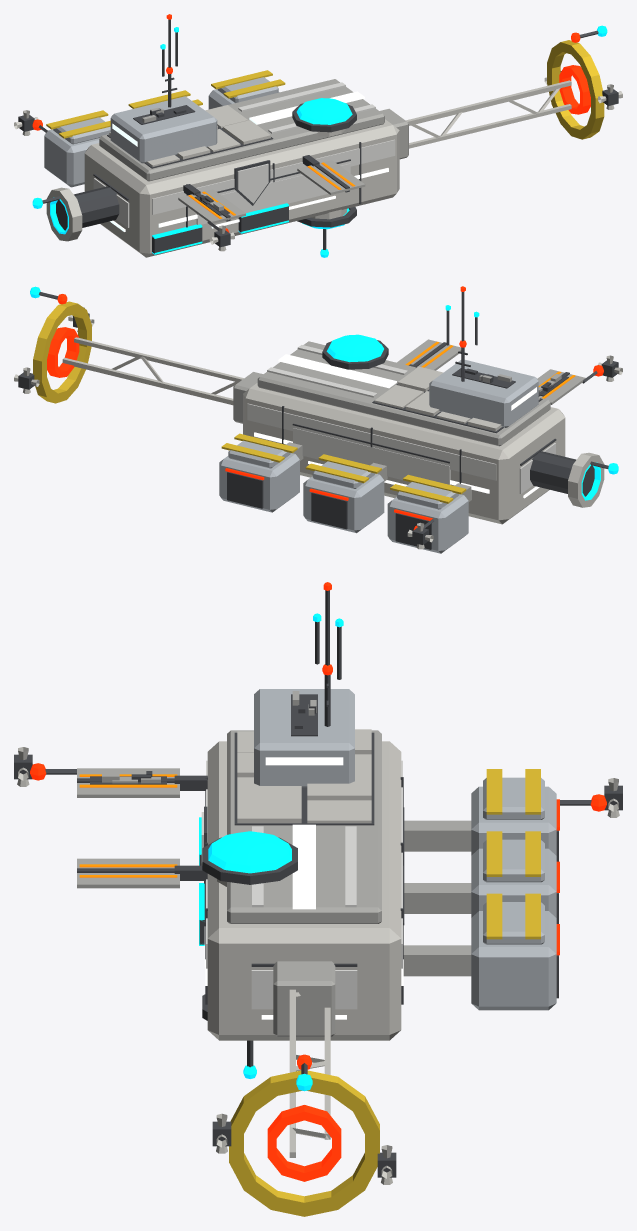
The model's file is weapons_works.glb.
The picture shows the model from 3 angles, top to bottom: view 1: azimuth 30°, elevation 25°; view 2: azimuth 150°, elevation 25°; view 3: azimuth 270°, elevation 25°; orthographic projection. The views are drawn at different scales.
Visible parts, largest first — view 1: weapons_works; view 2: weapons_works; view 3: weapons_works.
Boxes of the visible parts, bbox=[...] form: weapons_works: bbox=[14, 14, 622, 257]; weapons_works: bbox=[14, 286, 622, 553]; weapons_works: bbox=[14, 582, 622, 1216].
Bounding box in the file's own units: 2 × 0.8544 × 1.18.
